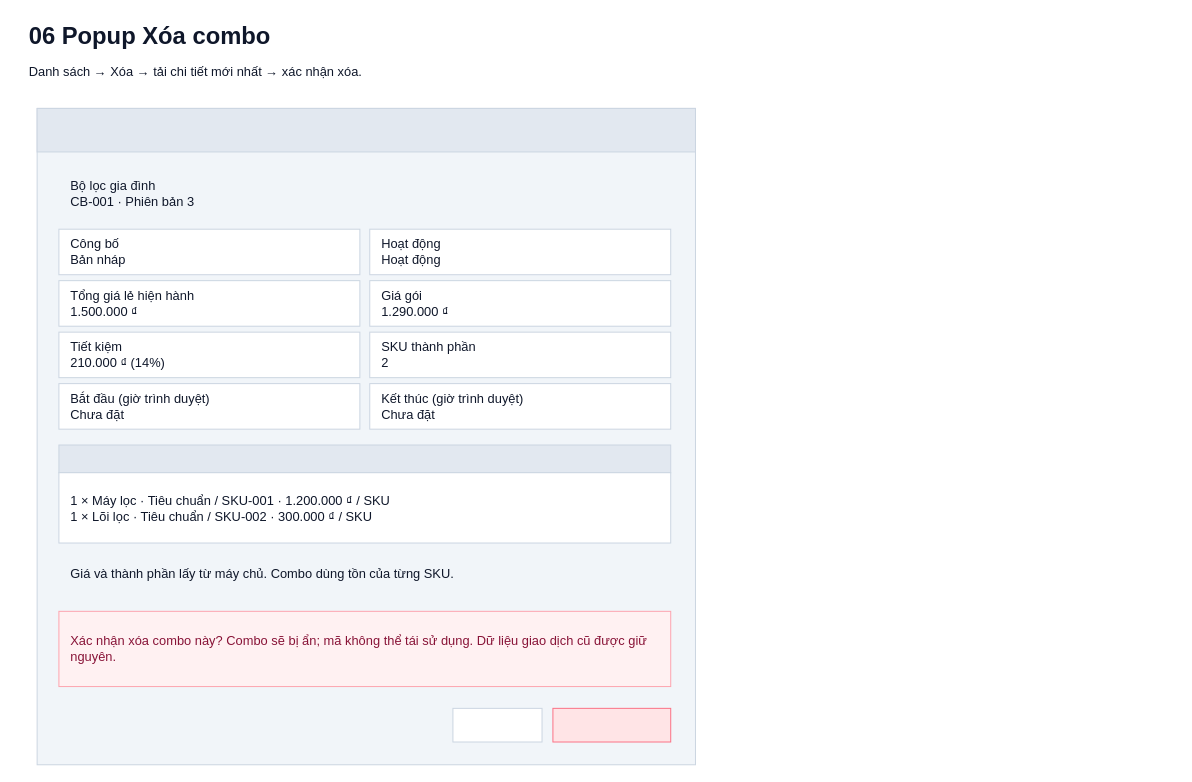
Image size: 1192x782. Some labels were removed from this diagram. The box of each missing label's shape, as (x1, y1, x2, y2) in pixels:
Thành phần: (58, 444, 671, 473)
Xóa combo: (552, 707, 671, 742)
Xóa combo ×: (36, 107, 695, 152)
Đóng: (452, 707, 542, 742)
